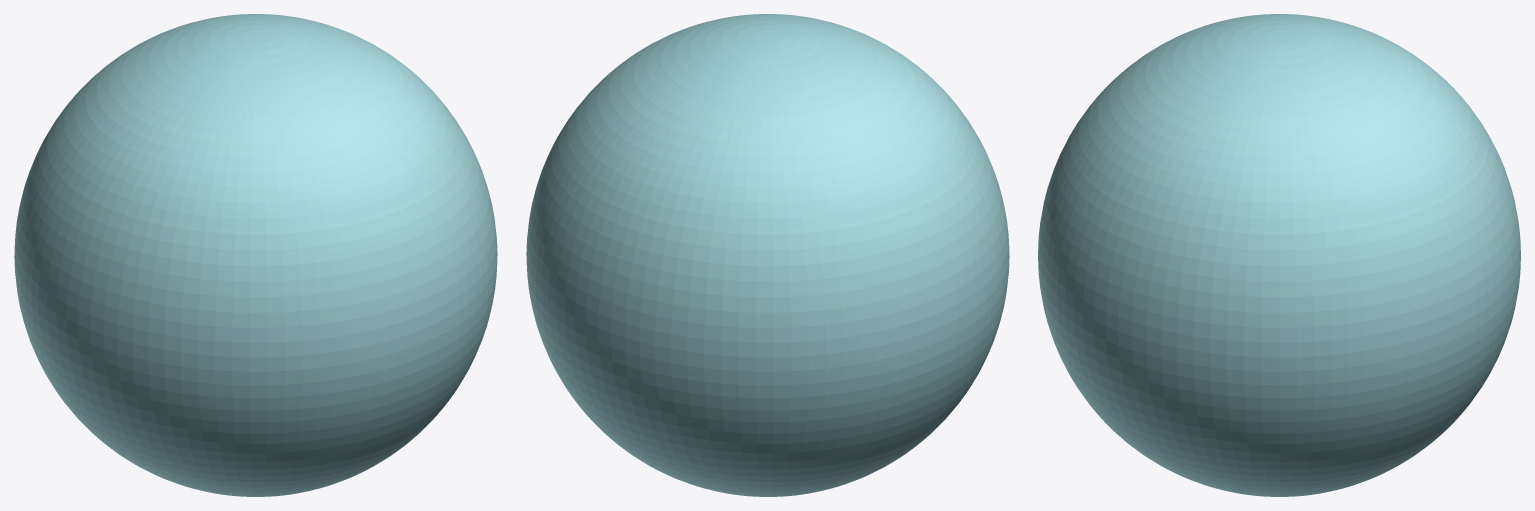
The model's file is uranus.dae.
3 views of the same model, side by side, from view 1: azimuth 30°, elevation 25°; view 2: azimuth 150°, elevation 25°; view 3: azimuth 270°, elevation 25° (orthographic).
Parts seen in each view (by area): view 1: group_0; view 2: group_0; view 3: group_0.
Boxes of the visible parts, bbox=[...] form: group_0: bbox=[14, 14, 497, 496]; group_0: bbox=[526, 14, 1009, 496]; group_0: bbox=[1038, 14, 1520, 496].
Size of the model in its own units: 2.36 by 2.36 by 2.36.
